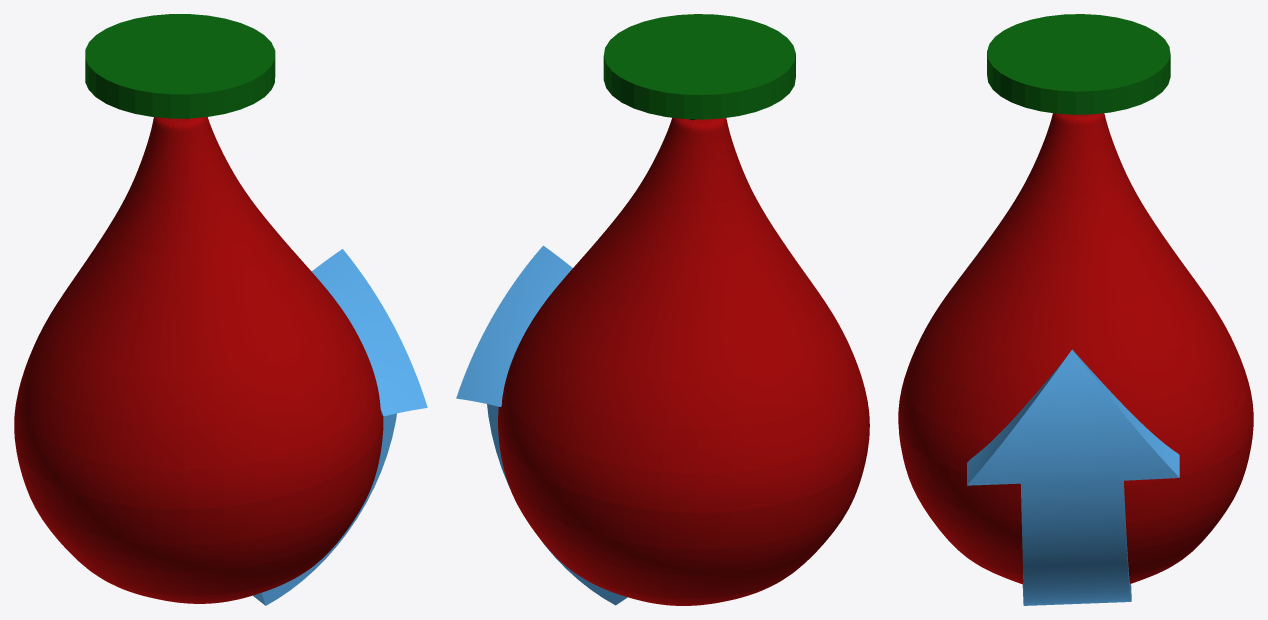
Rendered from PunchingBall_bas.fbx.
3 renders of one model, left to right at view 1: azimuth 30°, elevation 25°; view 2: azimuth 150°, elevation 25°; view 3: azimuth 270°, elevation 25°, orthographic. The views are drawn at different scales.
Visible parts, largest first — view 1: PunchingBall_Mini, Socle, UPPERUT_ARROW; view 2: PunchingBall_Mini, Socle, UPPERUT_ARROW; view 3: PunchingBall_Mini, UPPERUT_ARROW, Socle.
Boxes of the visible parts, x1,y1,x2,y2 form: PunchingBall_Mini: (14, 117, 383, 603); Socle: (85, 14, 275, 118); UPPERUT_ARROW: (253, 249, 427, 605); PunchingBall_Mini: (498, 117, 869, 605); Socle: (603, 14, 795, 119); UPPERUT_ARROW: (456, 245, 627, 605); PunchingBall_Mini: (898, 113, 1253, 584); UPPERUT_ARROW: (967, 349, 1179, 605); Socle: (987, 14, 1170, 114).
Size of the model in its own units: 293 by 459 by 282.
